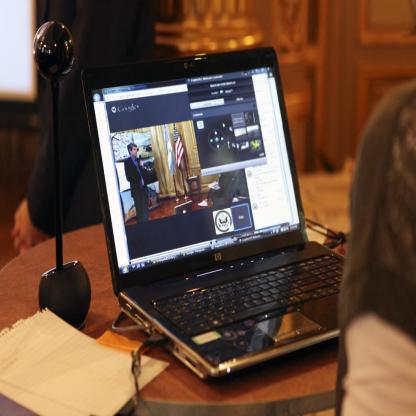board: (80, 46, 348, 380)
